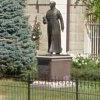Statue: (31, 1, 78, 57)
